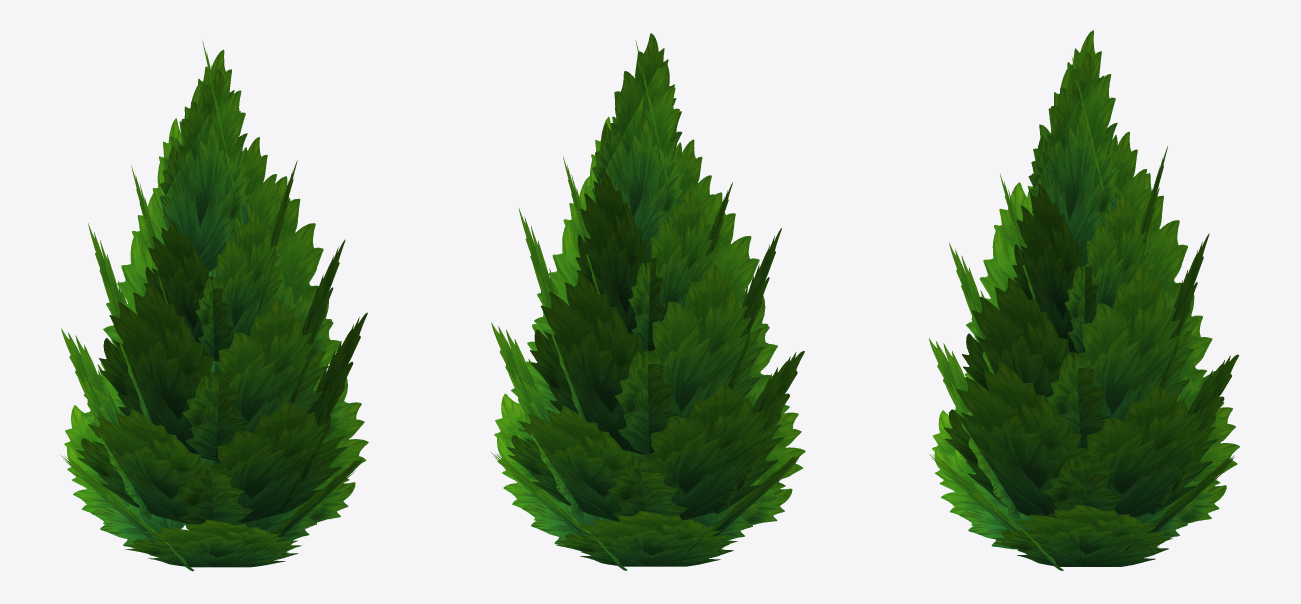
The model's file is shendian_zhiwu1.FBX.
3 renders of one model, left to right at view 1: azimuth 30°, elevation 25°; view 2: azimuth 150°, elevation 25°; view 3: azimuth 270°, elevation 25°, orthographic. The views are drawn at different scales.
Visible parts, largest first — view 1: shendian_zhiwu_aishu; view 2: shendian_zhiwu_aishu; view 3: shendian_zhiwu_aishu.
Boxes of the visible parts, bbox=[...] form: shendian_zhiwu_aishu: bbox=[61, 39, 368, 571]; shendian_zhiwu_aishu: bbox=[491, 33, 805, 570]; shendian_zhiwu_aishu: bbox=[929, 30, 1239, 570].
Bounding box in the file's own units: 355 × 539 × 384.
